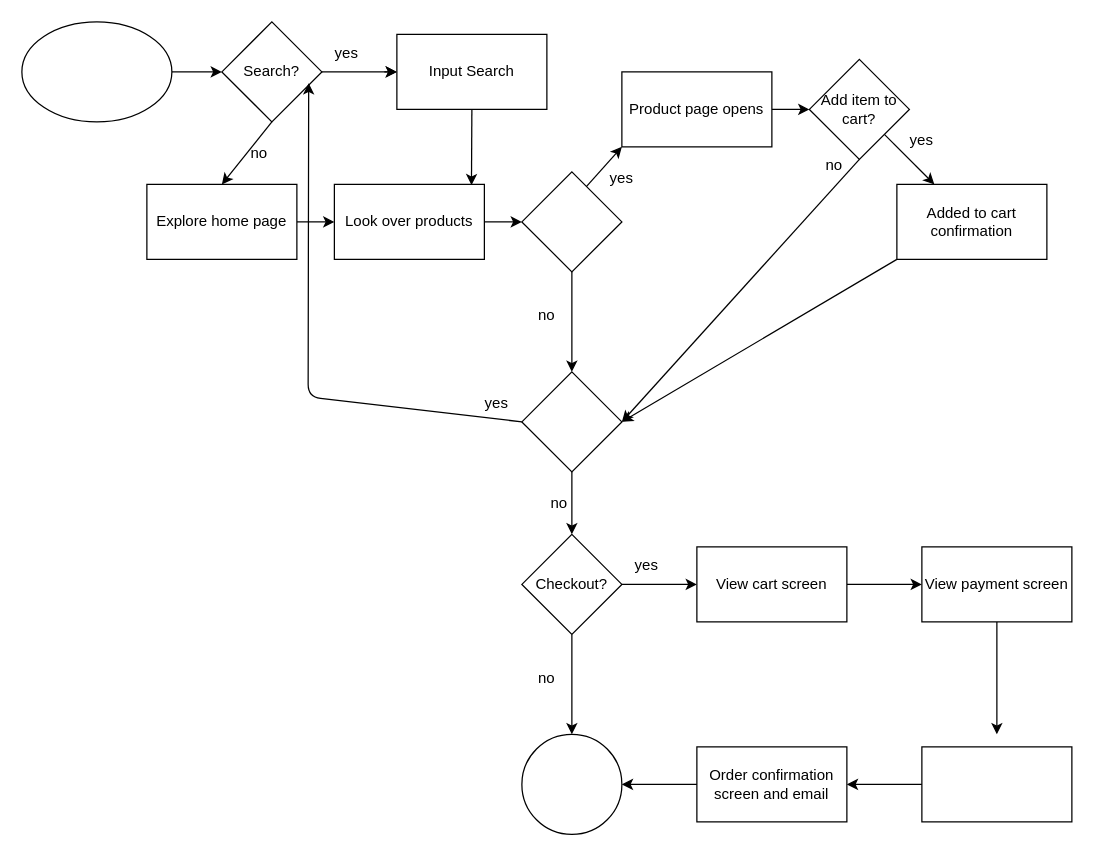
Image size: 1094x856. Some labels were removed from this diagram. Here are the shapes that lost their labels. From the top down, the box of each, then its label:
(21, 21, 172, 122): User enters the website
(521, 171, 622, 272): View Product?
(521, 371, 622, 472): Continue shopping?
(521, 733, 622, 834): User leaves website
(921, 746, 1072, 822): payment information input
